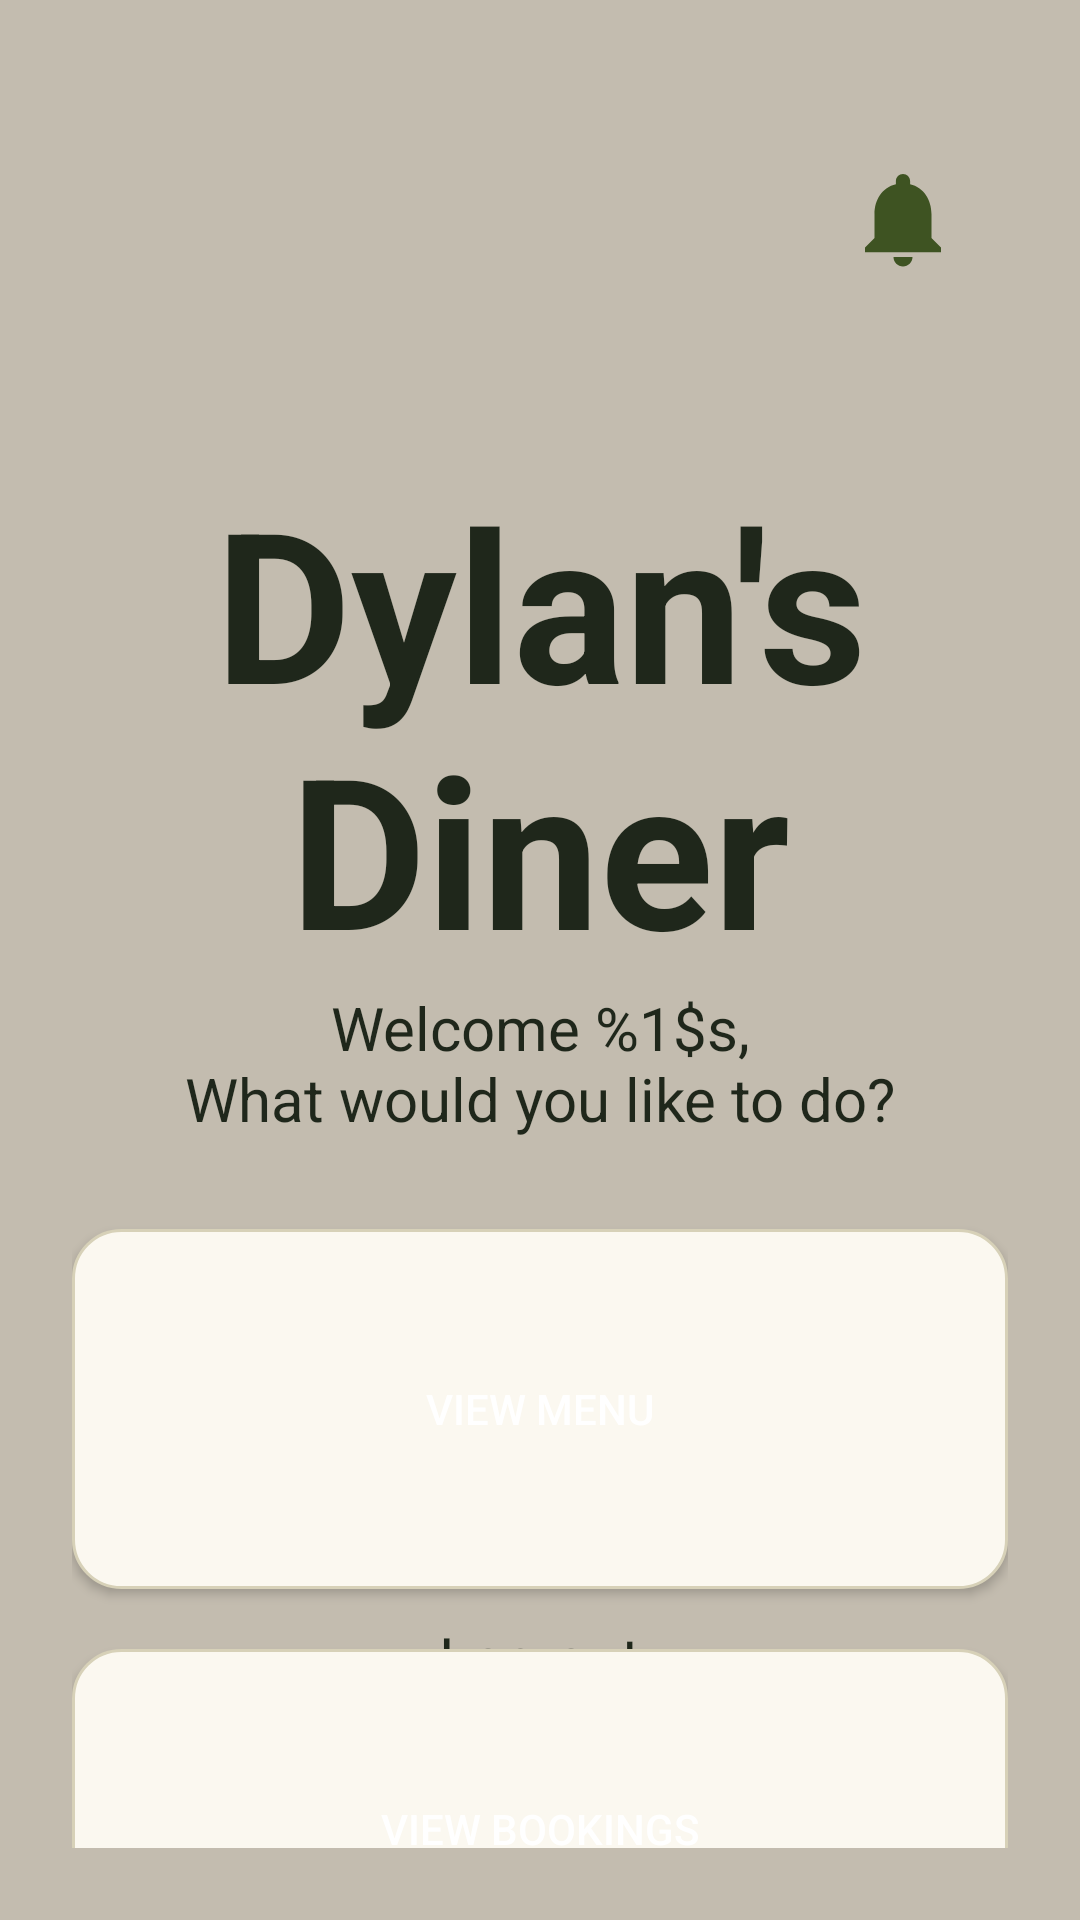

Icons on this 1080px x 1920px Android screen, each with its box as (x1=x1, y1=y1, x2=x2, y2=y2):
Notifications: (x1=865, y1=174, x2=941, y2=267)
